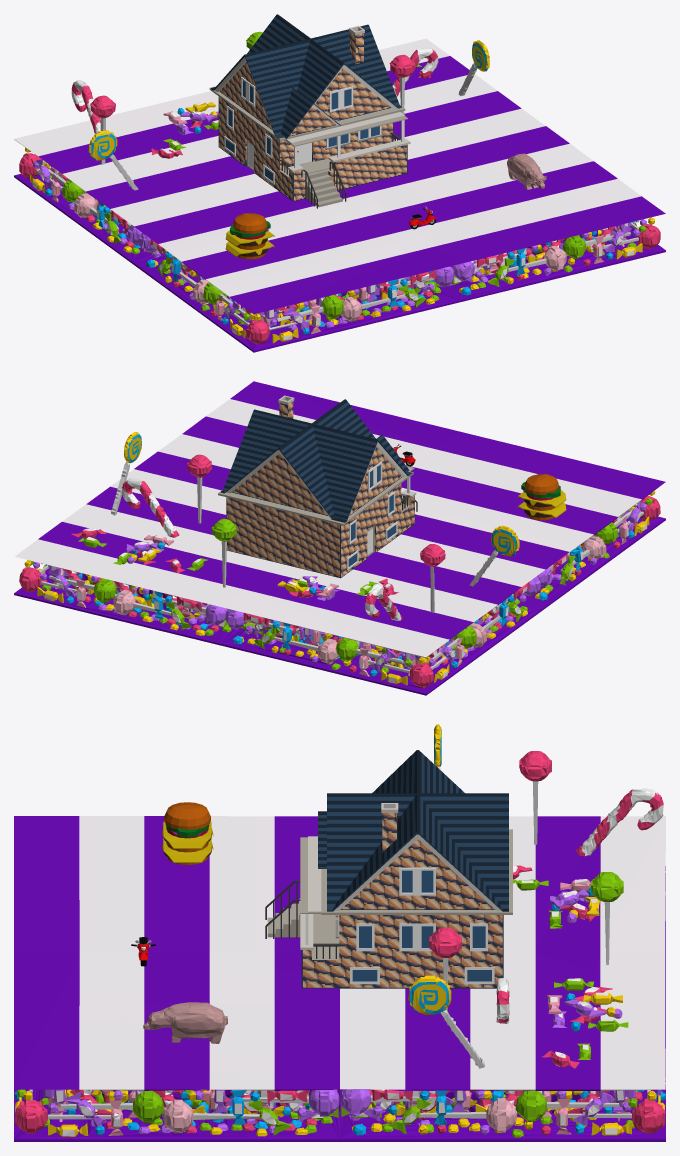
The picture shows the model from 3 angles, top to bottom: view 1: azimuth 30°, elevation 25°; view 2: azimuth 150°, elevation 25°; view 3: azimuth 270°, elevation 25°; orthographic projection. The views are drawn at different scales.
Parts seen in each view (by area): view 1: TERRAIN_CANDY, Cube.430, OBJRANDOM_HAMBURGER, ANIMAL_HIPOPOTAMO; view 2: TERRAIN_CANDY, Cube.430, OBJRANDOM_HAMBURGER; view 3: TERRAIN_CANDY, Cube.430, OBJRANDOM_HAMBURGER, ANIMAL_HIPOPOTAMO.
Part boxes in pixels (box(x1,y1,x2,y2)): TERRAIN_CANDY: box(14, 31, 665, 352); Cube.430: box(209, 14, 410, 208); OBJRANDOM_HAMBURGER: box(225, 213, 274, 259); ANIMAL_HIPOPOTAMO: box(507, 153, 546, 189); TERRAIN_CANDY: box(14, 381, 665, 695); Cube.430: box(218, 395, 417, 578); OBJRANDOM_HAMBURGER: box(517, 474, 566, 520); TERRAIN_CANDY: box(14, 724, 665, 1141); Cube.430: box(265, 750, 512, 988); OBJRANDOM_HAMBURGER: box(162, 802, 213, 864); ANIMAL_HIPOPOTAMO: box(143, 1002, 227, 1043).
Size of the model in its own units: 4059 by 1588 by 4000.
Materials: 30 (3 with a texture image).
